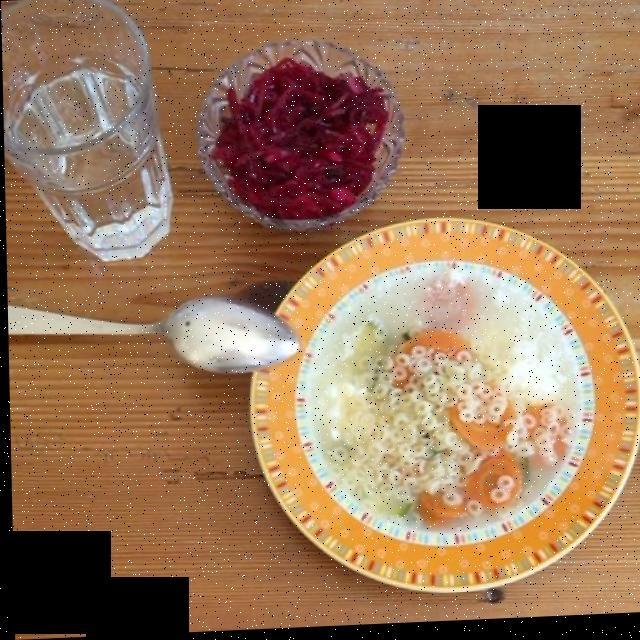beetroot: (214, 68, 395, 224)
carrot: (391, 334, 568, 535)
water: (17, 80, 178, 265)
